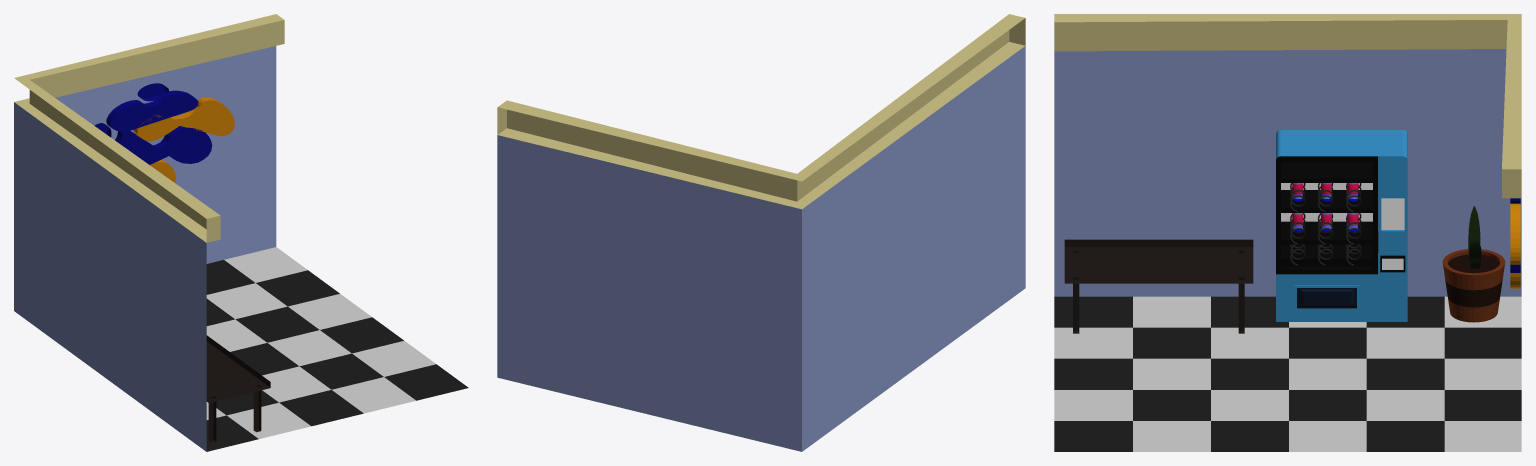
File: Allanim0003.obj
3 renders of one model, left to right at view 1: azimuth 30°, elevation 25°; view 2: azimuth 150°, elevation 25°; view 3: azimuth 270°, elevation 25°, orthographic. The views are drawn at different scales.
Parts seen in each view (by area): view 1: ruangan_Cube.003, meja_Cube.004, logo.001_Circle.019, logo_Circle.006, logo.005_Circle.023; view 2: ruangan_Cube.003; view 3: ruangan_Cube.003, vending_machine_Cube.001, meja_Cube.004, pot_bunga_Cylinder, per_second\_Spiral.010, Plane.007, logo_Circle.006.
Part boxes in pixels (x1=…): ruangan_Cube.003: x1=14, y1=14, x2=468, y2=451; meja_Cube.004: x1=206, y1=335, x2=270, y2=443; logo.001_Circle.019: x1=115, y1=126, x2=212, y2=164; logo_Circle.006: x1=133, y1=97, x2=234, y2=141; logo.005_Circle.023: x1=106, y1=90, x2=198, y2=133; ruangan_Cube.003: x1=497, y1=14, x2=1025, y2=451; ruangan_Cube.003: x1=1054, y1=14, x2=1521, y2=451; vending_machine_Cube.001: x1=1276, y1=130, x2=1407, y2=321; meja_Cube.004: x1=1064, y1=239, x2=1253, y2=333; pot_bunga_Cylinder: x1=1442, y1=249, x2=1505, y2=322; per_second\_Spiral.010: x1=1290, y1=183, x2=1361, y2=265; Plane.007: x1=1468, y1=206, x2=1481, y2=268; logo_Circle.006: x1=1510, y1=203, x2=1520, y2=264.
Bounding box in the file's own units: 11.73 × 9.95 × 14.9.
